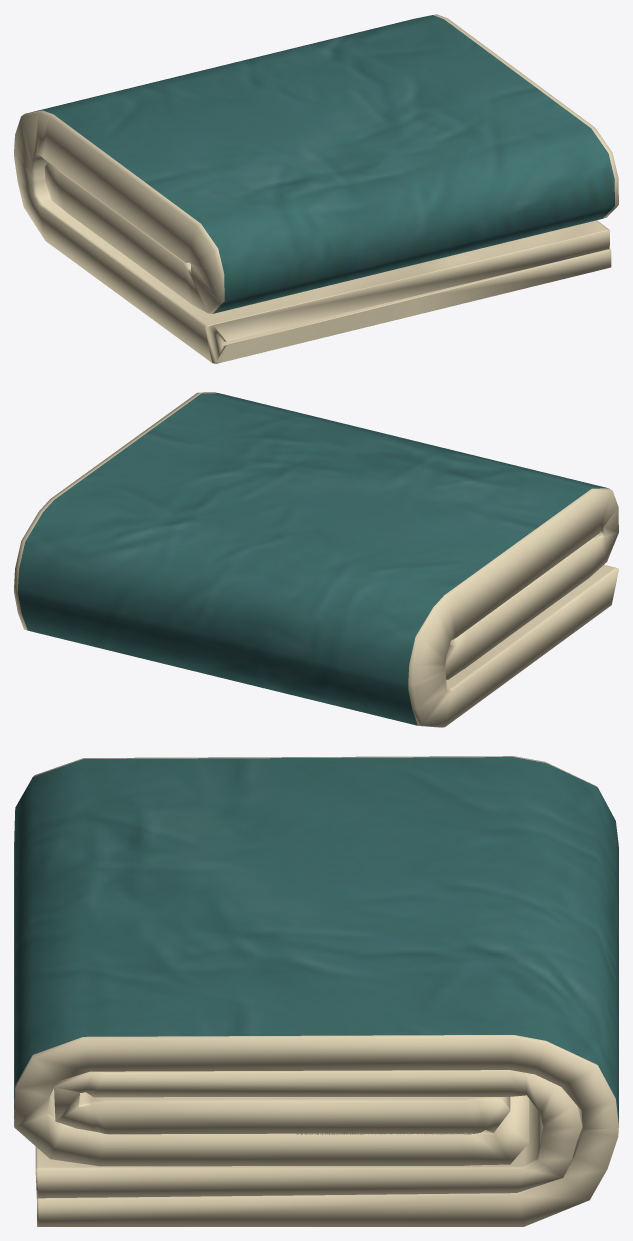
Rendered from 5. N_bed_sheet Copper Grove Aanekoski2.fbx.
The picture shows the model from 3 angles, top to bottom: view 1: azimuth 30°, elevation 25°; view 2: azimuth 150°, elevation 25°; view 3: azimuth 270°, elevation 25°; orthographic projection. The views are drawn at different scales.
Parts seen in each view (by area): view 1: 5. N_bed_sheet Copper Grove Aanekoski2; view 2: 5. N_bed_sheet Copper Grove Aanekoski2; view 3: 5. N_bed_sheet Copper Grove Aanekoski2.
Part boxes in pixels (<box>): 5. N_bed_sheet Copper Grove Aanekoski2: <box>14,14,618,363</box>; 5. N_bed_sheet Copper Grove Aanekoski2: <box>14,392,618,727</box>; 5. N_bed_sheet Copper Grove Aanekoski2: <box>14,756,618,1226</box>.
Bounding box in the file's own units: 0.3238 × 0.0987 × 0.2857.
